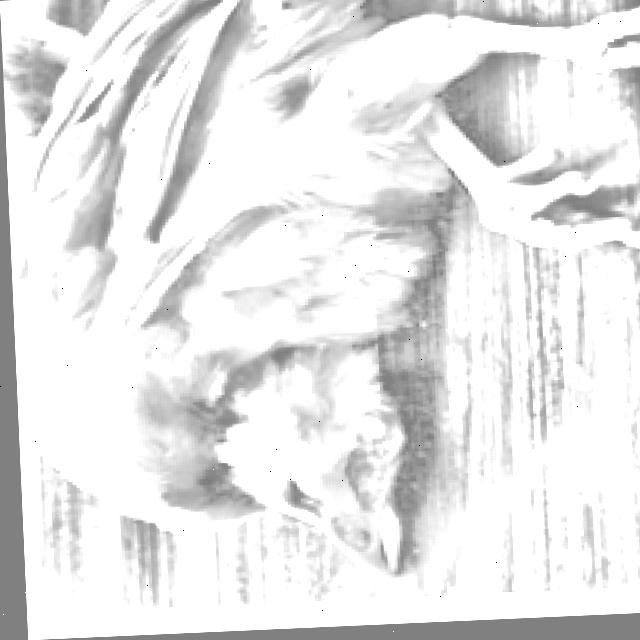Newcastle: (165, 317, 484, 589)
